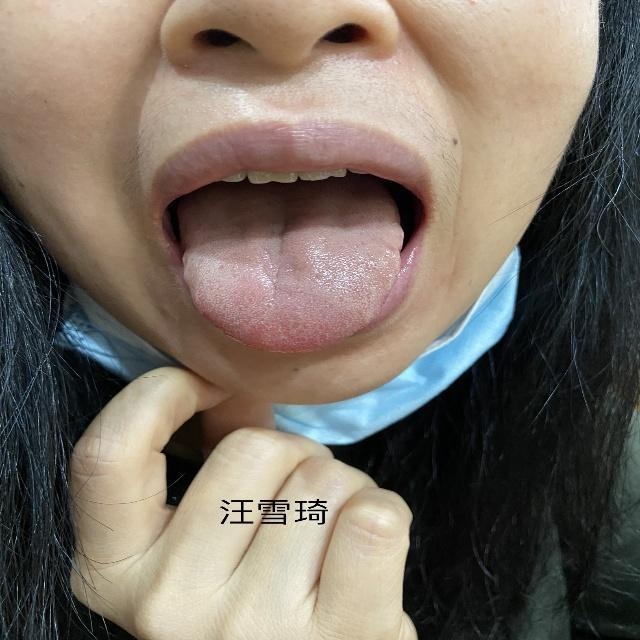baitaishe: (181, 214, 405, 353)
